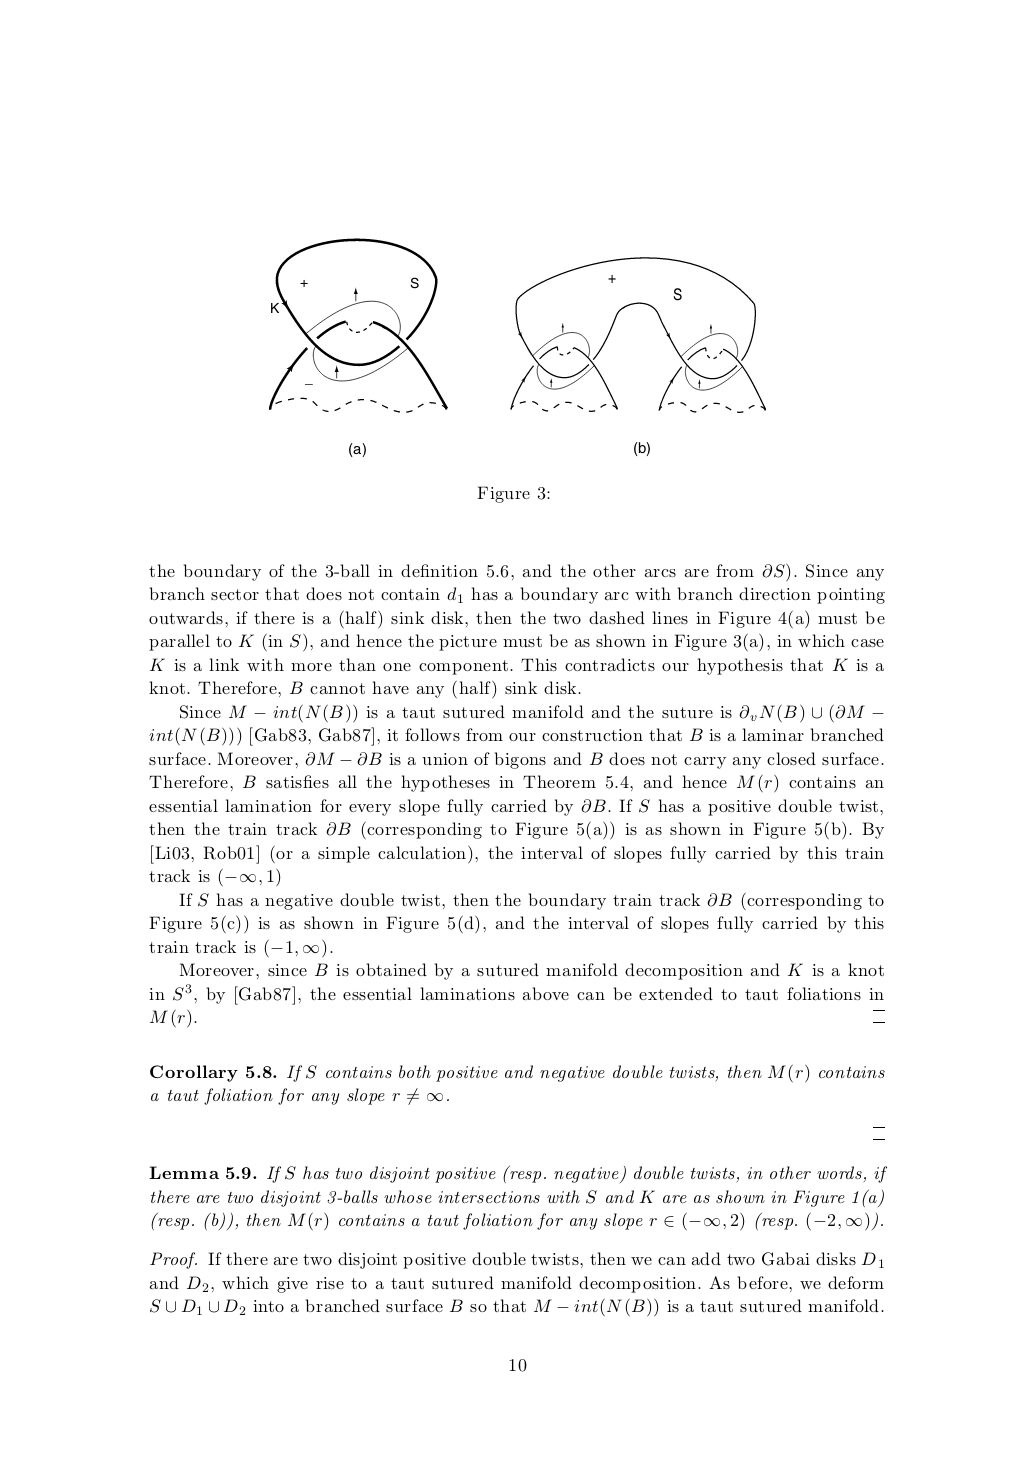figure: (510, 255, 767, 413), (269, 236, 447, 413)
